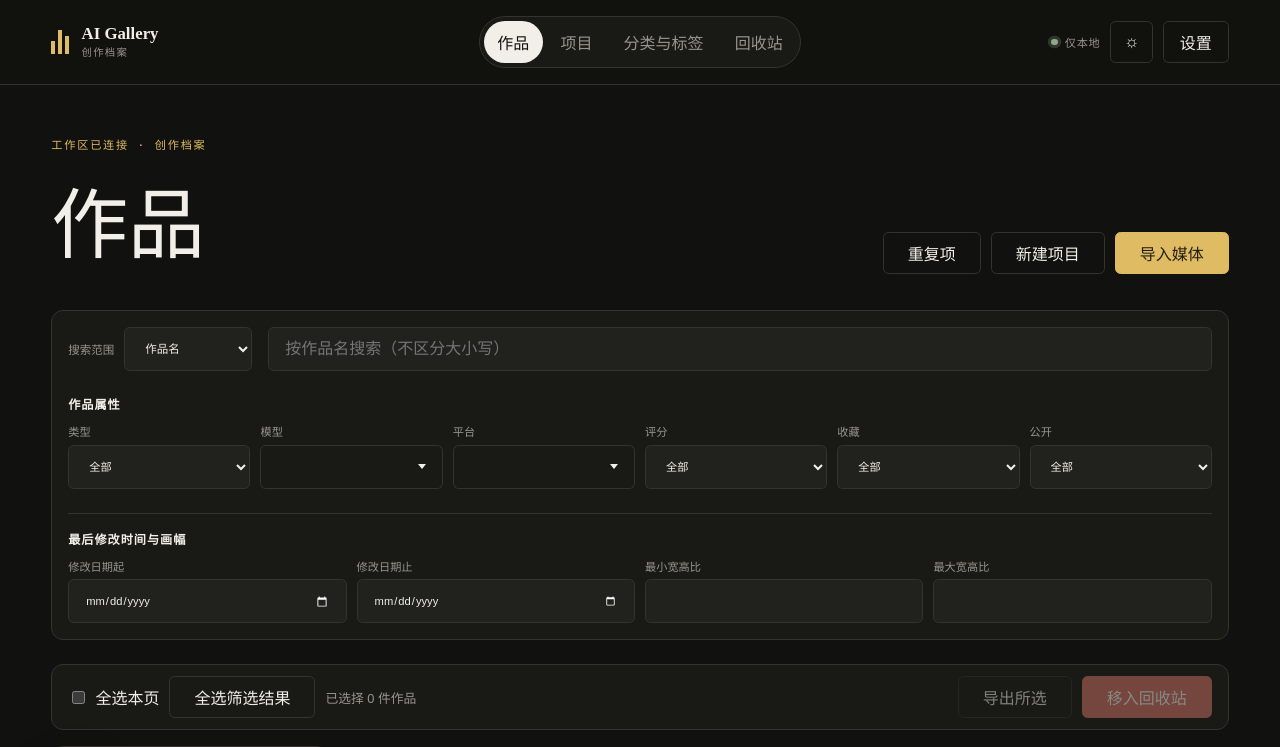
Test: M2 作品库页面 › 点击项目进入详情并自动按项目筛选作品
Click the button "项目". click: (576,42)
box: top-left (547, 21), bottom-right (606, 63)
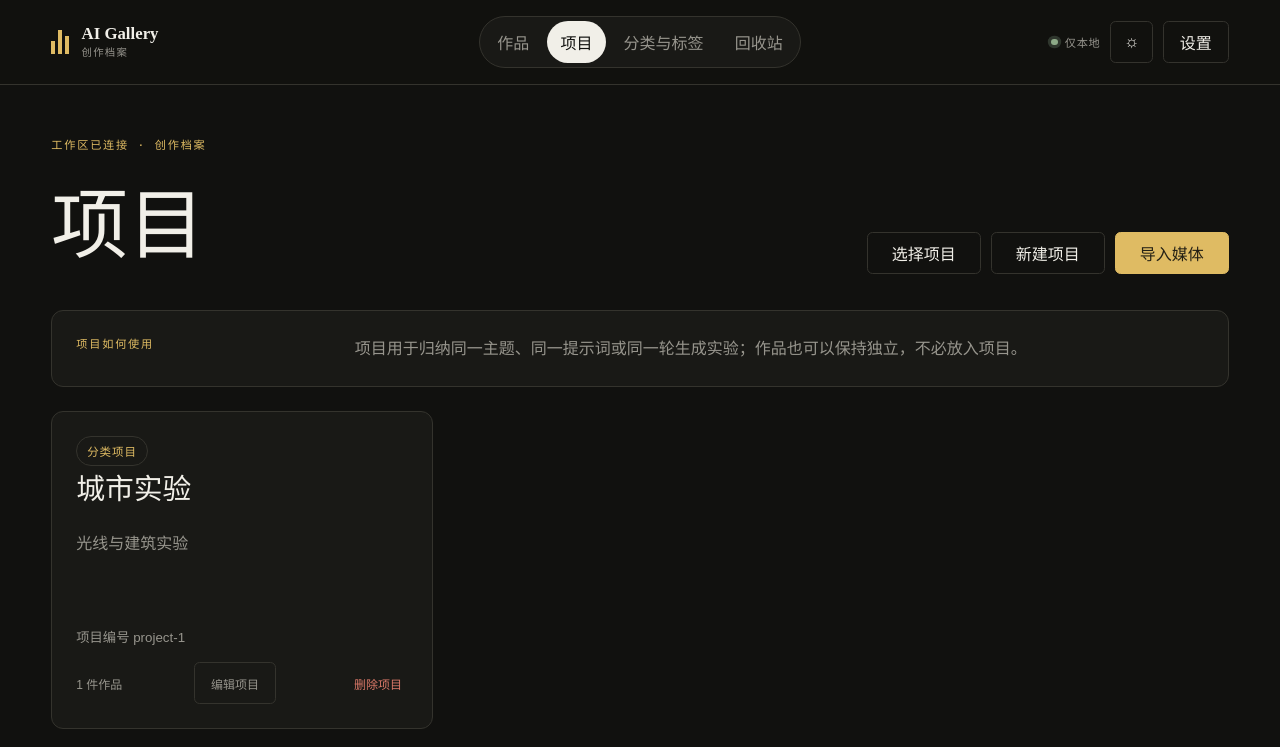
Click the button "分类项目 城市实验 光线与建筑实验". click: (112,451)
box: top-left (76, 436), bottom-right (408, 627)
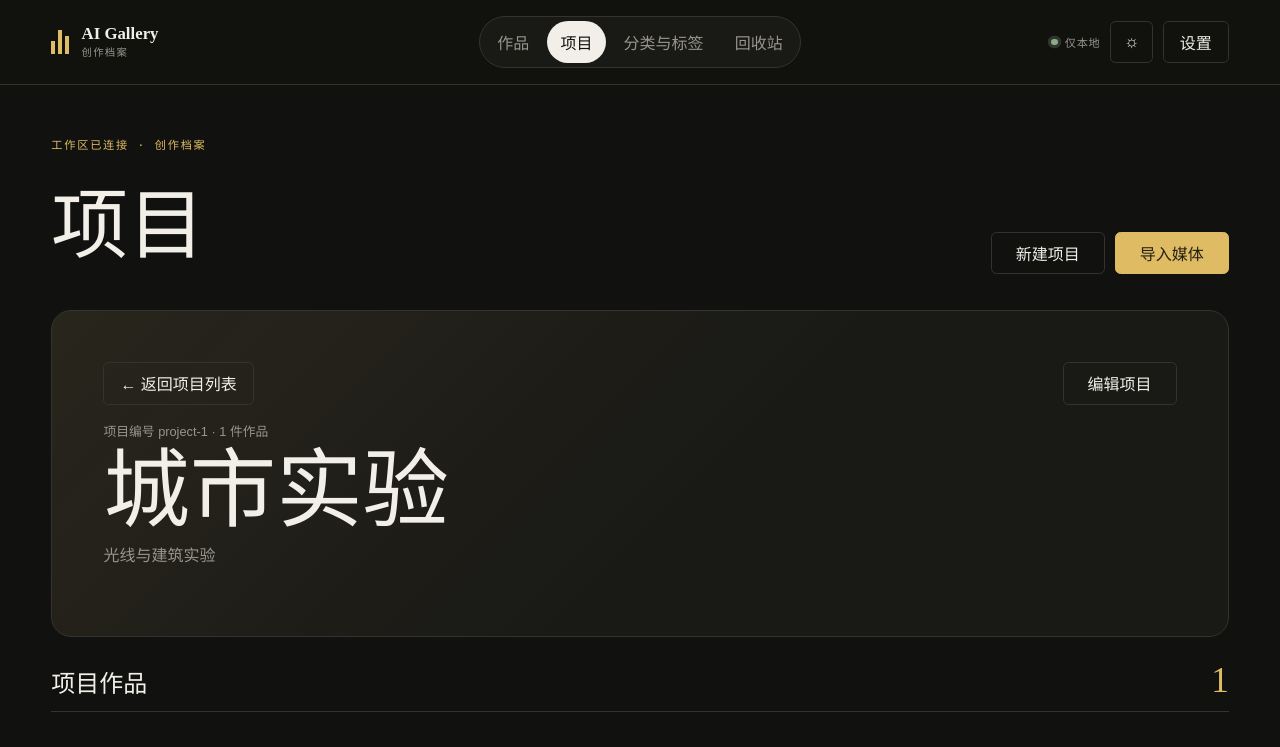
Expected: the text "项目作品" is shown, top-left (51, 664), bottom-right (147, 699)
